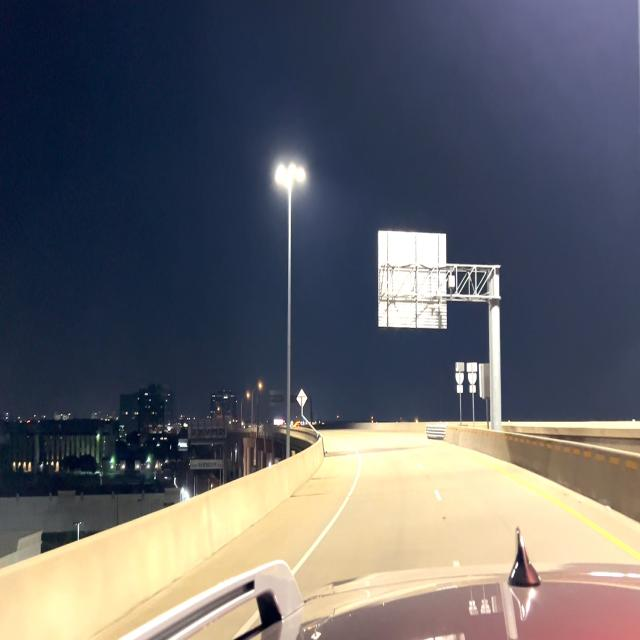back-of-sign: (379, 230, 448, 329), (479, 360, 491, 398), (466, 361, 478, 395), (456, 361, 465, 395)
